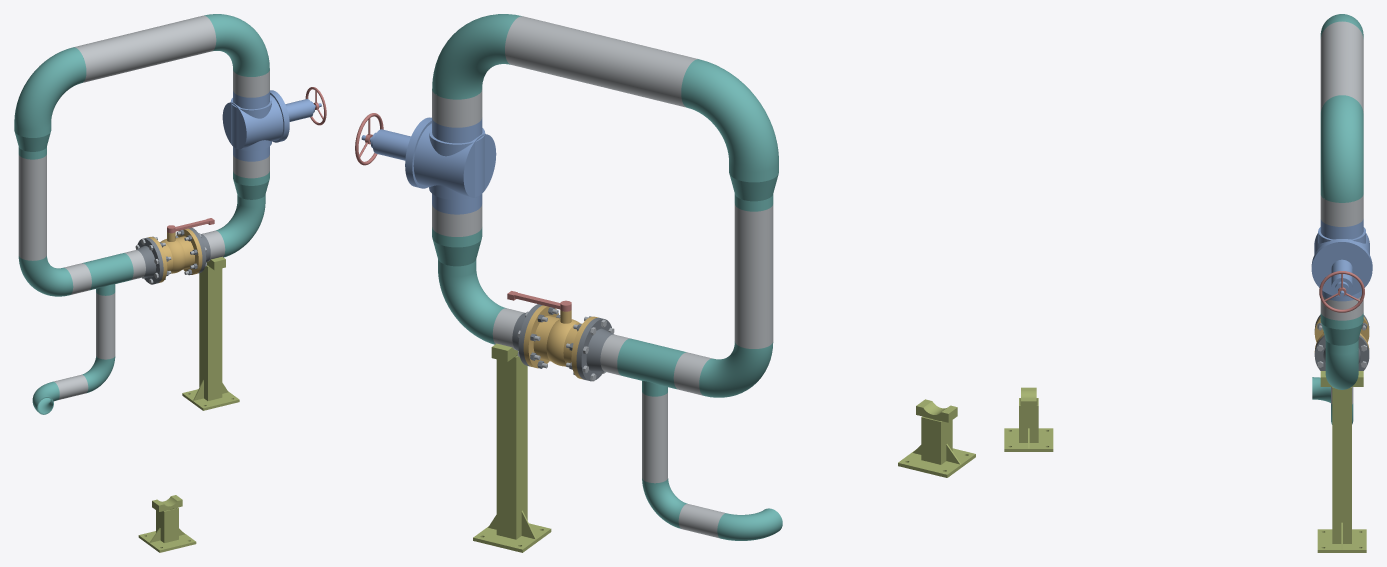
File: step_79.glb
3 renders of one model, left to right at view 1: azimuth 30°, elevation 25°; view 2: azimuth 150°, elevation 25°; view 3: azimuth 270°, elevation 25°, orthographic. The views are drawn at different scales.
Parts seen in each view (by area): view 1: part__8" pipe, top run, 890 long, part__pipe support SP-101, tall, part__8" gate valve body GV-101, part__8" elbow top left, part__6" pipe, left riser, 664 long, part__8" elbow top right, part__pipe support SP-101, short, part__6" ball valve body BV-101, part__6" elbow bottom left, part__6" x 4" reducing tee, part__6" elbow bottom right, part__4" pipe, branch drop, 418 long (+12 smaller); view 2: part__8" pipe, top run, 890 long, part__pipe support SP-101, tall, part__8" gate valve body GV-101, part__8" elbow top left, part__6" pipe, left riser, 664 long, part__8" elbow top right, part__pipe support SP-101, short, part__6" ball valve body BV-101, part__6" elbow bottom left, part__6" elbow bottom right, part__6" x 4" reducing tee, part__4" pipe, branch drop, 418 long (+11 smaller); view 3: part__8" elbow top right, part__pipe support SP-101, tall, part__8" pipe, top run, 890 long, part__8" gate valve bonnet and stem, part__pipe support SP-101, short, part__reducer right leg, part__8" gate valve body GV-101, part__6" elbow bottom right, part__8" pipe, right leg above the gate valve, 136 long, part__8" pipe, right leg below the gate valve, 109 long, part__8" gate valve handwheel, part__6" flange, ball valve outlet.
Part boxes in pixels (bbox=[...]): part__8" pipe, top run, 890 long: bbox=[74, 15, 216, 82]; part__pipe support SP-101, tall: bbox=[182, 256, 239, 410]; part__8" gate valve body GV-101: bbox=[222, 91, 287, 161]; part__8" elbow top left: bbox=[14, 47, 86, 130]; part__6" pipe, left riser, 664 long: bbox=[18, 154, 46, 260]; part__8" elbow top right: bbox=[204, 14, 269, 76]; part__pipe support SP-101, short: bbox=[138, 495, 196, 552]; part__6" ball valve body BV-101: bbox=[148, 228, 202, 282]; part__6" elbow bottom left: bbox=[18, 256, 73, 296]; part__6" x 4" reducing tee: bbox=[82, 253, 133, 295]; part__6" elbow bottom right: bbox=[216, 202, 265, 257]; part__4" pipe, branch drop, 418 long: bbox=[96, 292, 115, 359]; part__8" pipe, top run, 890 long: bbox=[505, 16, 698, 107]; part__pipe support SP-101, tall: bbox=[473, 343, 551, 552]; part__8" gate valve body GV-101: bbox=[408, 117, 496, 214]; part__8" elbow top left: bbox=[681, 59, 778, 171]; part__6" pipe, left riser, 664 long: bbox=[734, 203, 773, 348]; part__8" elbow top right: bbox=[432, 14, 521, 99]; part__pipe support SP-101, short: bbox=[898, 399, 975, 477]; part__6" ball valve body BV-101: bbox=[523, 305, 597, 379]; part__6" elbow bottom left: bbox=[699, 341, 773, 397]; part__6" elbow bottom right: bbox=[438, 270, 506, 344]; part__6" x 4" reducing tee: bbox=[617, 338, 686, 396]; part__4" pipe, branch drop, 418 long: bbox=[642, 392, 667, 483]; part__8" elbow top right: bbox=[1320, 95, 1363, 202]; part__pipe support SP-101, tall: bbox=[1317, 371, 1366, 552]; part__8" pipe, top run, 890 long: bbox=[1320, 21, 1363, 112]; part__8" gate valve bonnet and stem: bbox=[1311, 240, 1372, 297]; part__pipe support SP-101, short: bbox=[1004, 387, 1053, 451]; part__reducer right leg: bbox=[1320, 312, 1363, 354]; part__8" gate valve body GV-101: bbox=[1311, 219, 1372, 301]; part__6" elbow bottom right: bbox=[1325, 348, 1358, 389]; part__8" pipe, right leg above the gate valve, 136 long: bbox=[1320, 195, 1363, 226]; part__8" pipe, right leg below the gate valve, 109 long: bbox=[1320, 296, 1363, 320]; part__8" gate valve handwheel: bbox=[1319, 271, 1364, 312]; part__6" flange, ball valve outlet: bbox=[1314, 335, 1369, 370].
Bounding box in the file's own units: 2102 × 2510 × 1881.
